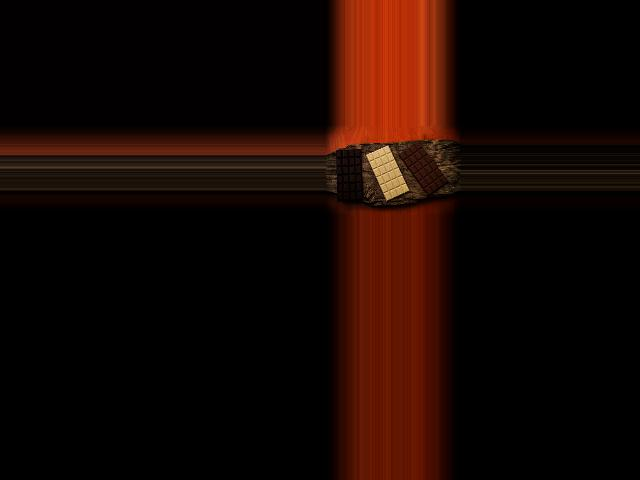chocolate: (335, 149, 362, 201)
